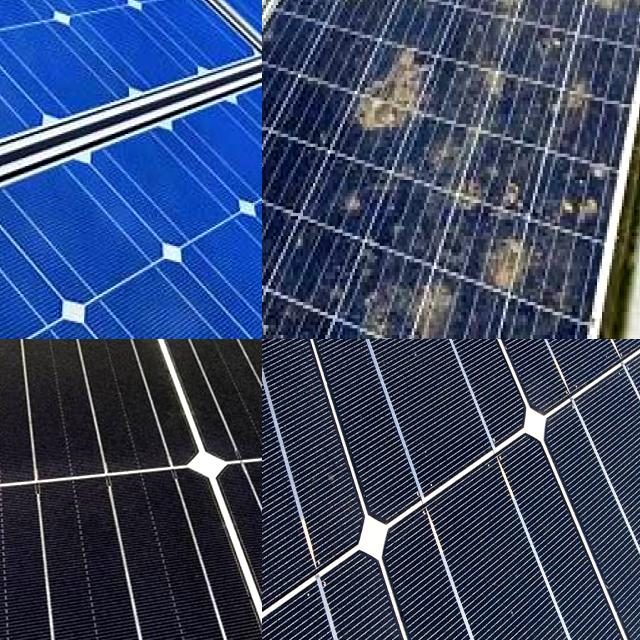bird: (352, 30, 444, 123), (558, 146, 622, 227), (400, 275, 465, 339), (476, 162, 533, 225), (478, 232, 534, 296), (554, 48, 592, 135), (334, 170, 376, 226), (589, 0, 638, 33), (478, 0, 524, 33), (410, 0, 442, 46), (262, 182, 299, 214), (262, 301, 289, 339)
crack: (0, 80, 262, 339), (341, 421, 640, 640), (288, 339, 536, 559), (0, 0, 262, 196), (0, 472, 262, 640), (0, 339, 230, 528), (525, 339, 640, 640), (445, 339, 640, 478), (122, 339, 262, 495), (71, 0, 262, 103), (178, 434, 262, 640), (0, 339, 165, 411), (98, 339, 262, 408)
